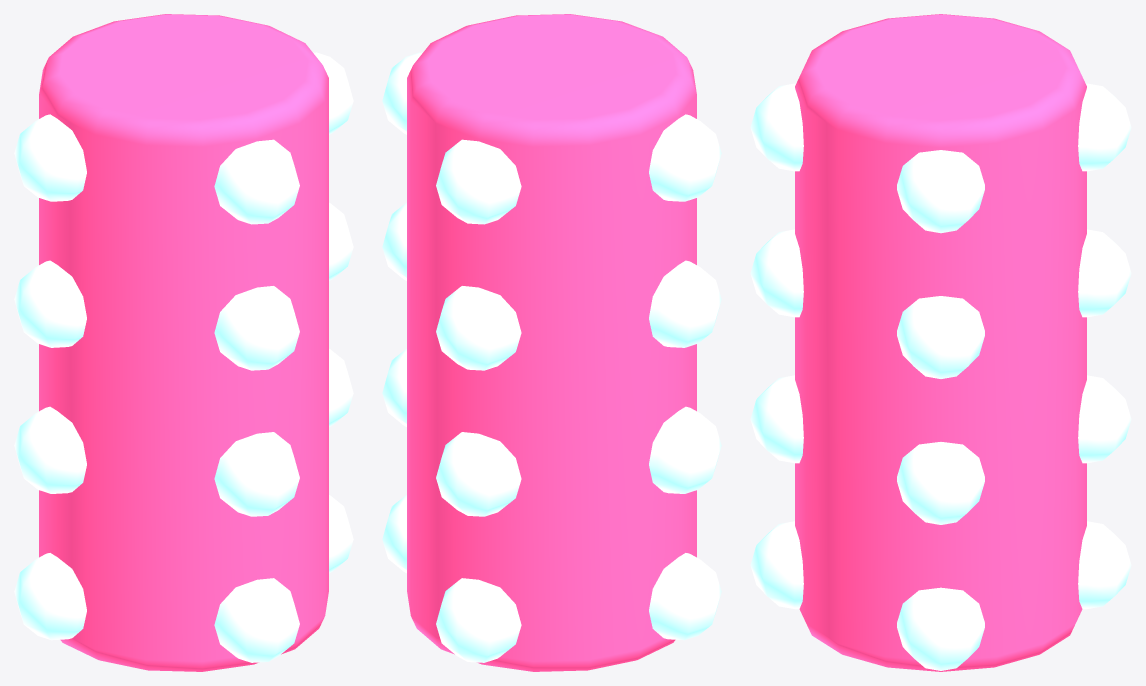
3 renders of one model, left to right at view 1: azimuth 30°, elevation 25°; view 2: azimuth 150°, elevation 25°; view 3: azimuth 270°, elevation 25°, orthographic.
Parts seen in each view (by area): view 1: Cylinder.037, Sphere.012, Sphere.013; view 2: Cylinder.037, Sphere.012, Sphere.013; view 3: Cylinder.037, Sphere.013, Sphere.012.
Part boxes in pixels (x1,y1,x2,y2): Cylinder.037: [39, 14, 328, 671]; Sphere.012: [14, 52, 353, 640]; Sphere.013: [214, 139, 299, 662]; Cylinder.037: [407, 14, 696, 671]; Sphere.012: [382, 52, 721, 640]; Sphere.013: [436, 139, 521, 662]; Cylinder.037: [795, 14, 1086, 671]; Sphere.013: [750, 83, 1131, 609]; Sphere.012: [897, 150, 984, 670].
Bounding box in the file's own units: 0.9847 × 1.57 × 0.9847.
